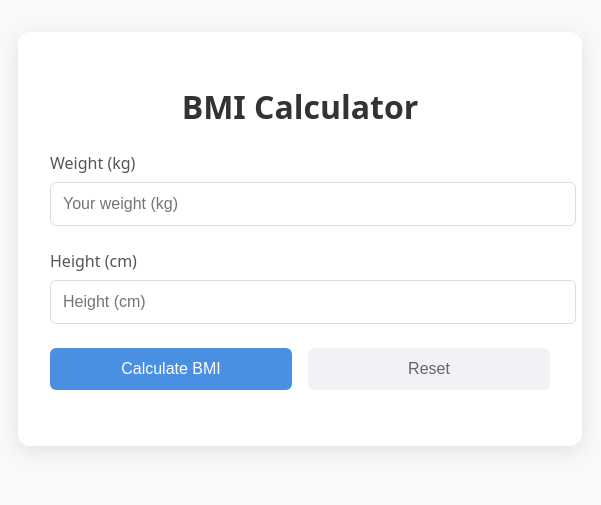
Test: BMI Calculator › handles invalid data (height = 0)
In the number field labelled "Weight (kg)": (313, 204) [50, 182, 576, 226], type "70"
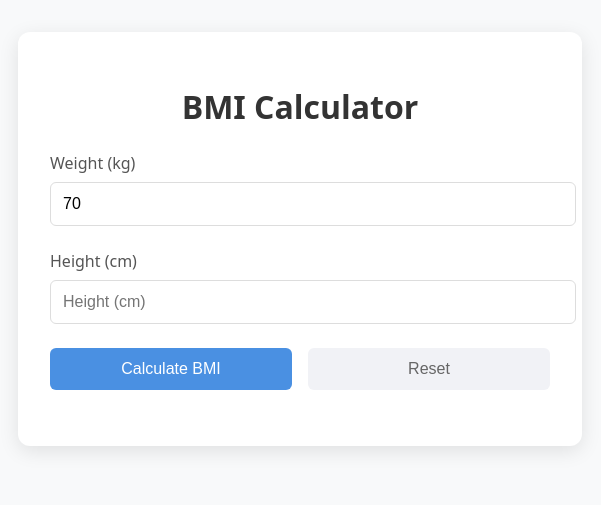
In the number field labelled "Height (cm)": (313, 302) [50, 280, 576, 324], type "0"
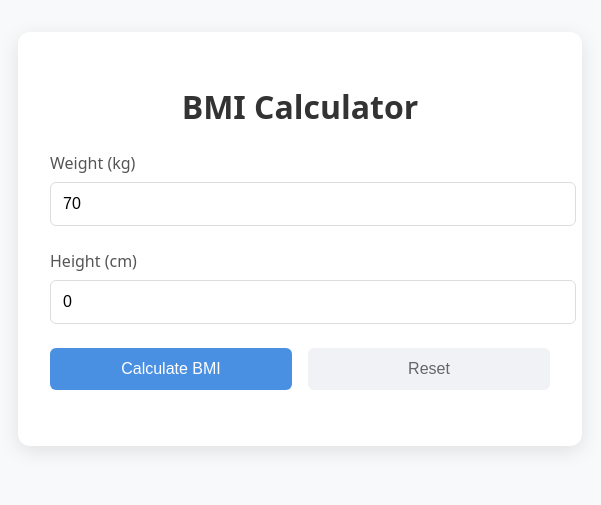
Click the button "Calculate BMI": (171, 369) [50, 348, 292, 390]
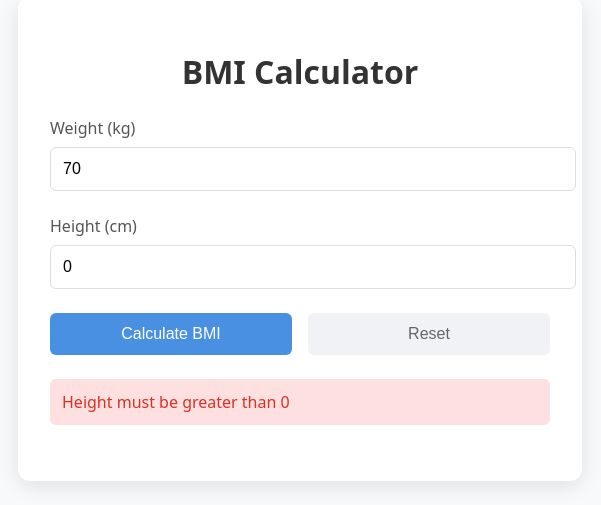
Result: the text "Height must be greater than 0" is shown at [50, 379, 550, 425]
